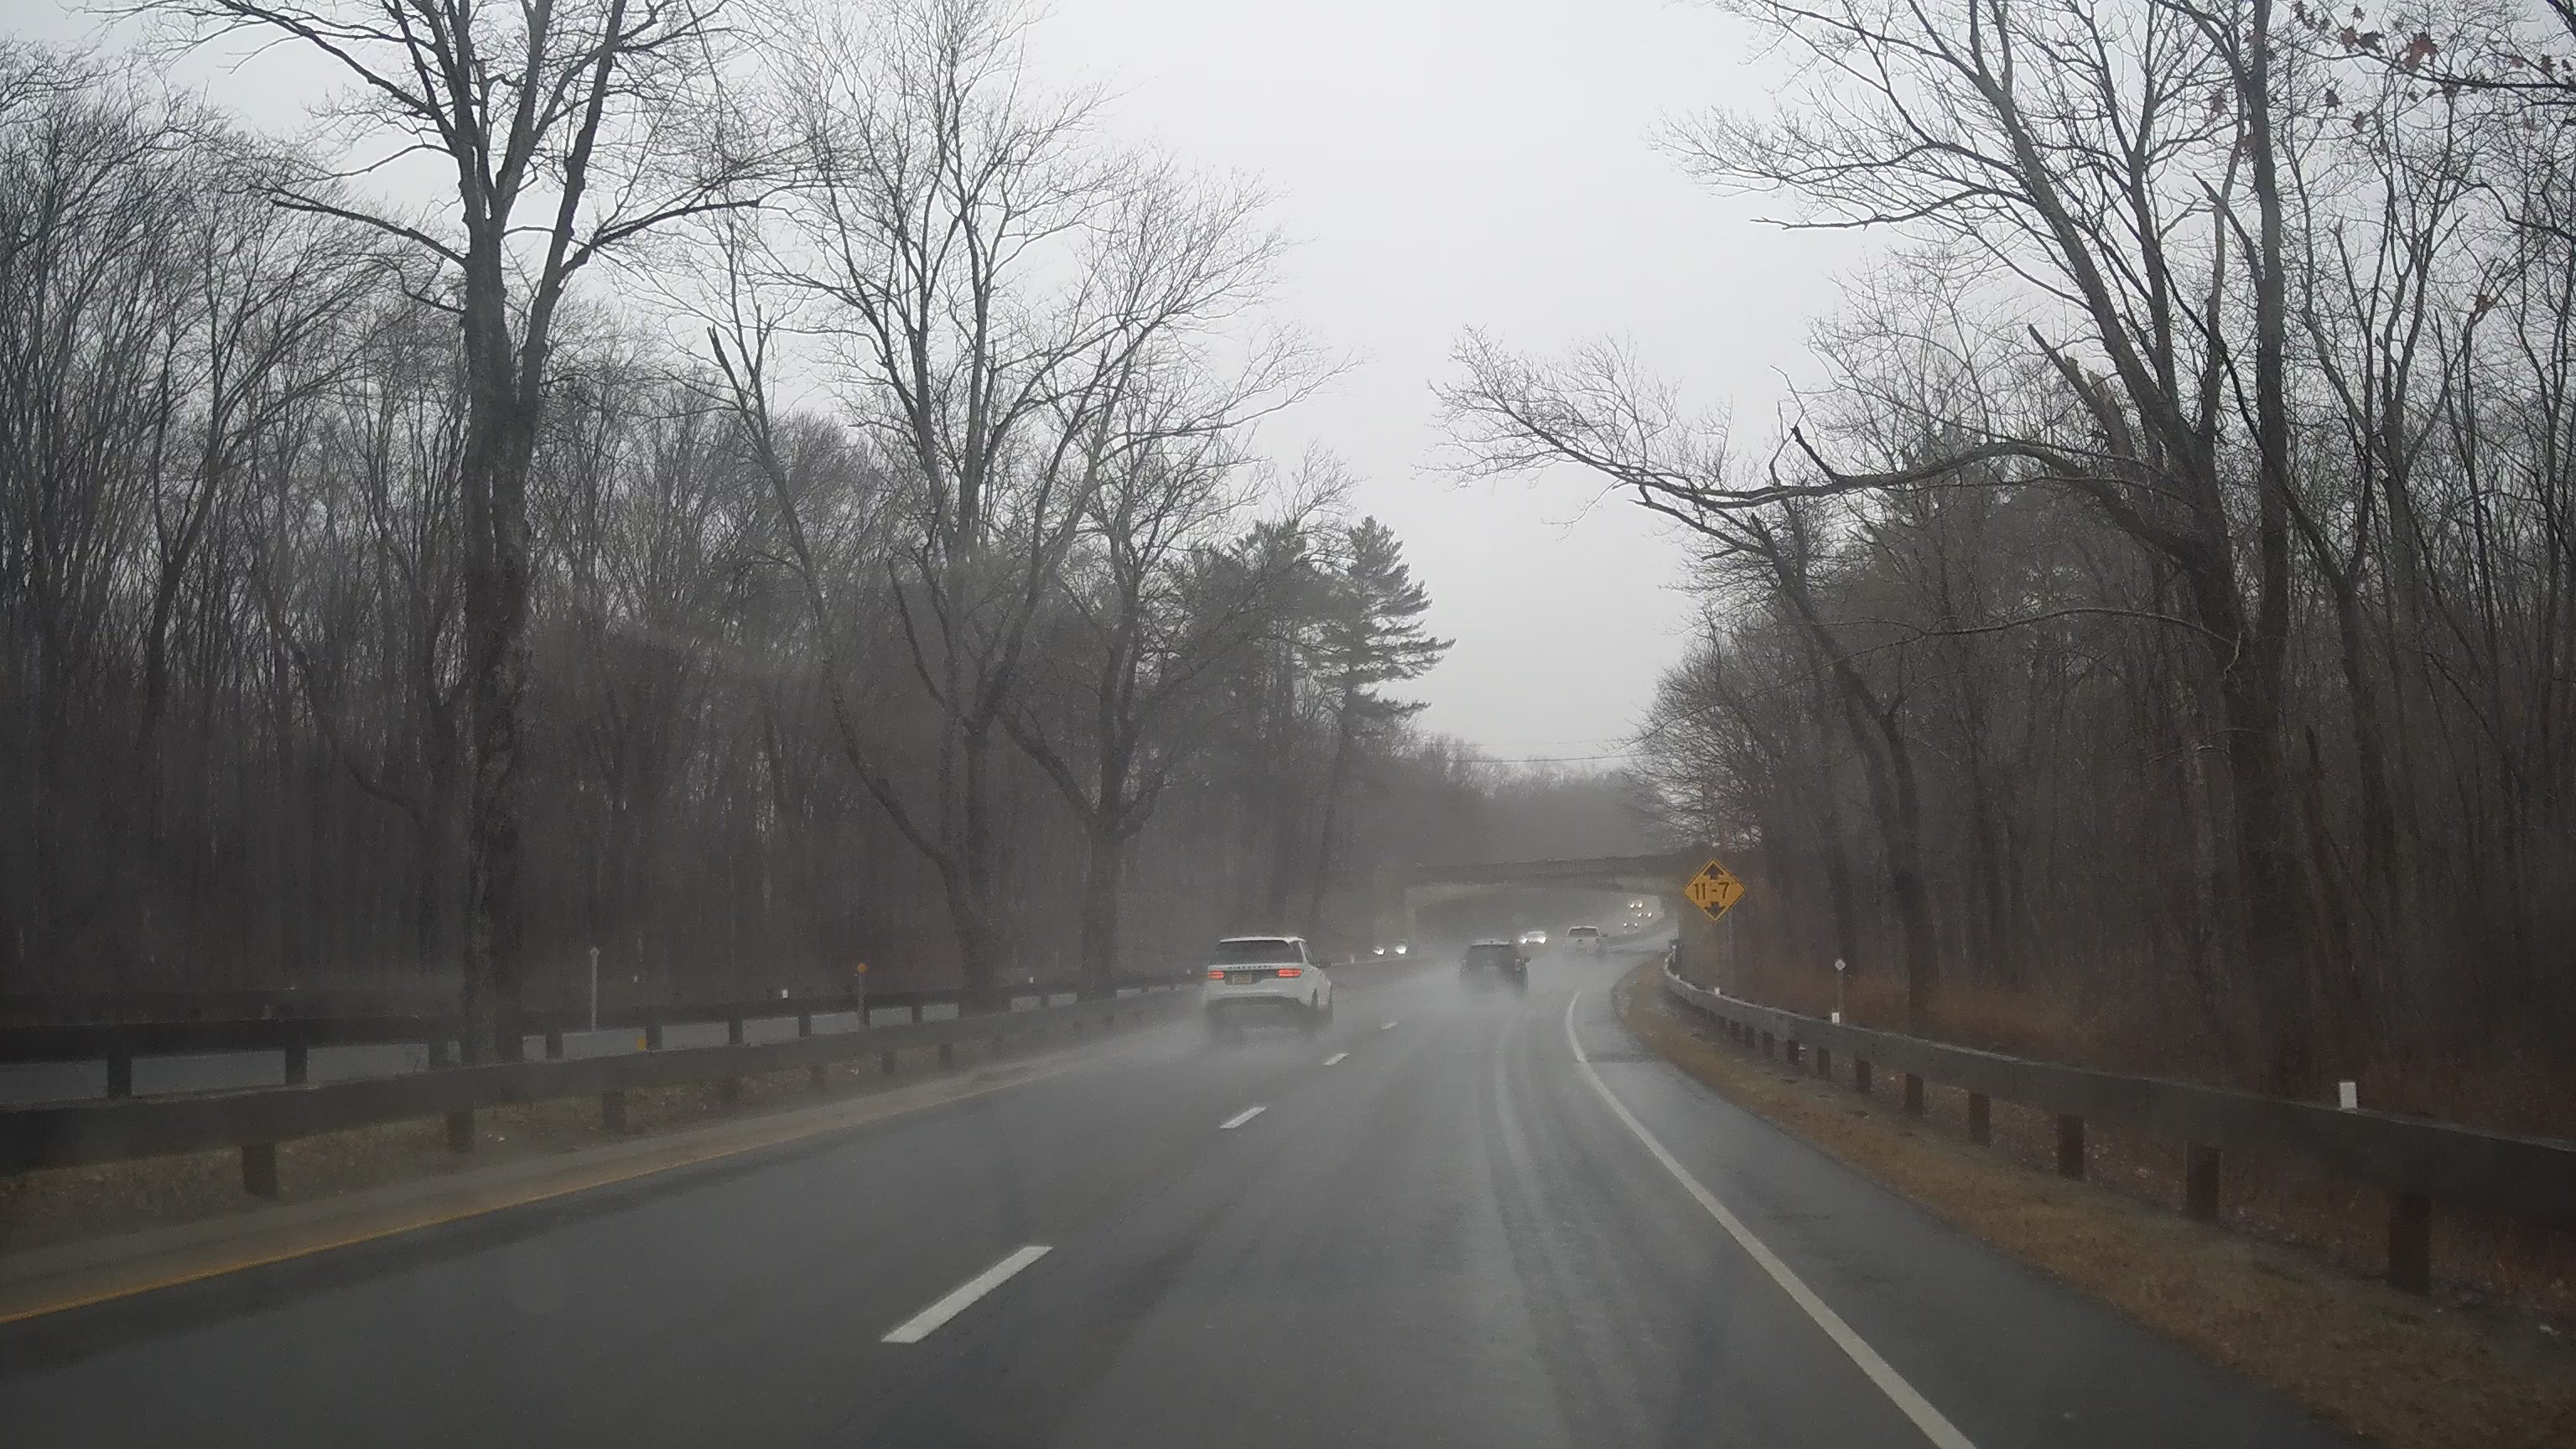low-clearance-sign: (1681, 856, 1748, 924)
